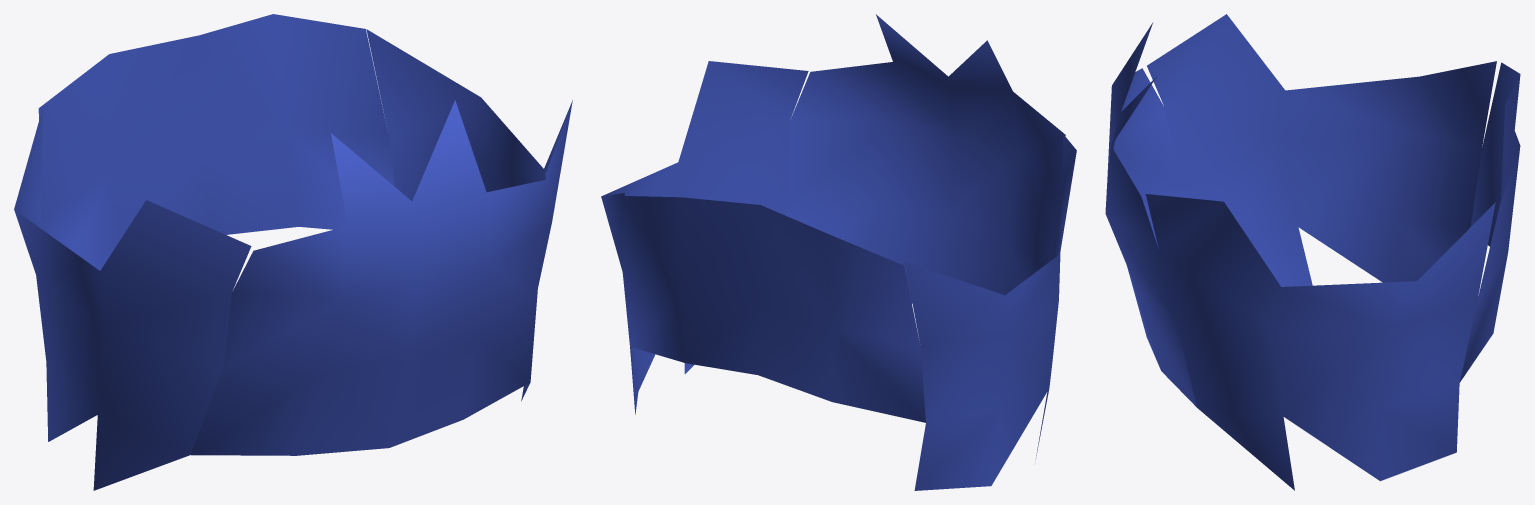
File: spine1.glb
The picture shows the model from 3 angles, left to right: view 1: azimuth 30°, elevation 25°; view 2: azimuth 150°, elevation 25°; view 3: azimuth 270°, elevation 25°; orthographic projection. The views are drawn at different scales.
Visible parts, largest first — view 1: sweater-blue_SPINE1; view 2: sweater-blue_SPINE1; view 3: sweater-blue_SPINE1.
Boxes of the visible parts, x1,y1,x2,y2 form: sweater-blue_SPINE1: (14,14,572,490); sweater-blue_SPINE1: (601,14,1076,490); sweater-blue_SPINE1: (1105,14,1520,490).
Bounding box in the file's own units: 0.3761 × 0.3034 × 0.3237.
1 material, 1 textured.
